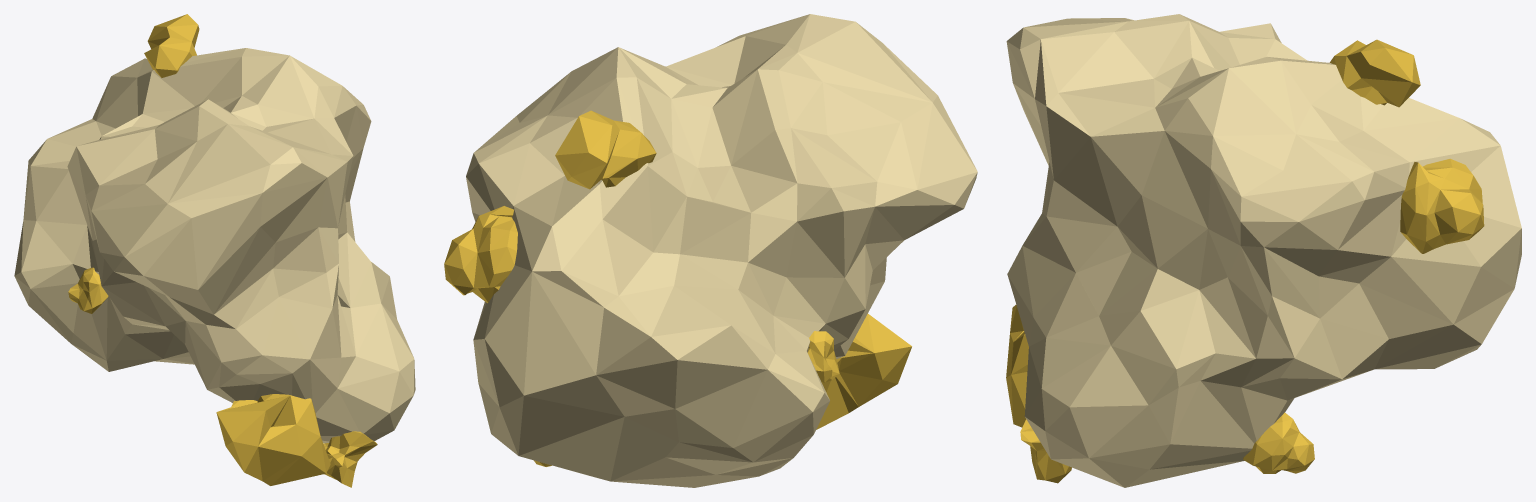
The model's file is MetalOre (24).fbx.
The picture shows the model from 3 angles, left to right: view 1: azimuth 30°, elevation 25°; view 2: azimuth 150°, elevation 25°; view 3: azimuth 270°, elevation 25°; orthographic projection. The views are drawn at different scales.
Parts seen in each view (by area): view 1: Asteroid379; view 2: Asteroid379; view 3: Asteroid379.
Part boxes in pixels (x1=…): Asteroid379: x1=14, y1=14, x2=415, y2=487; Asteroid379: x1=444, y1=14, x2=977, y2=487; Asteroid379: x1=1006, y1=14, x2=1521, y2=487.
Size of the model in its own units: 224 by 246 by 269.
